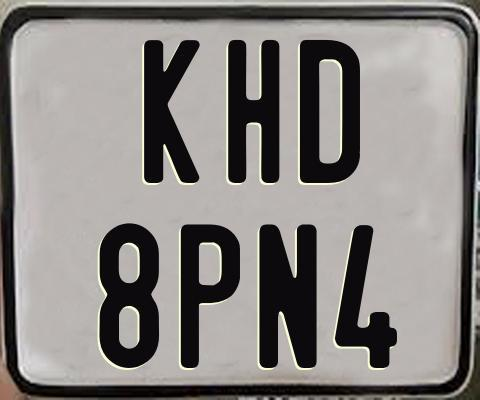4: (332, 224, 399, 368)
8: (96, 222, 161, 372)
D: (298, 38, 363, 187)
H: (228, 37, 281, 181)
K: (142, 40, 202, 186)
N: (258, 224, 316, 373)
P: (178, 223, 243, 372)
